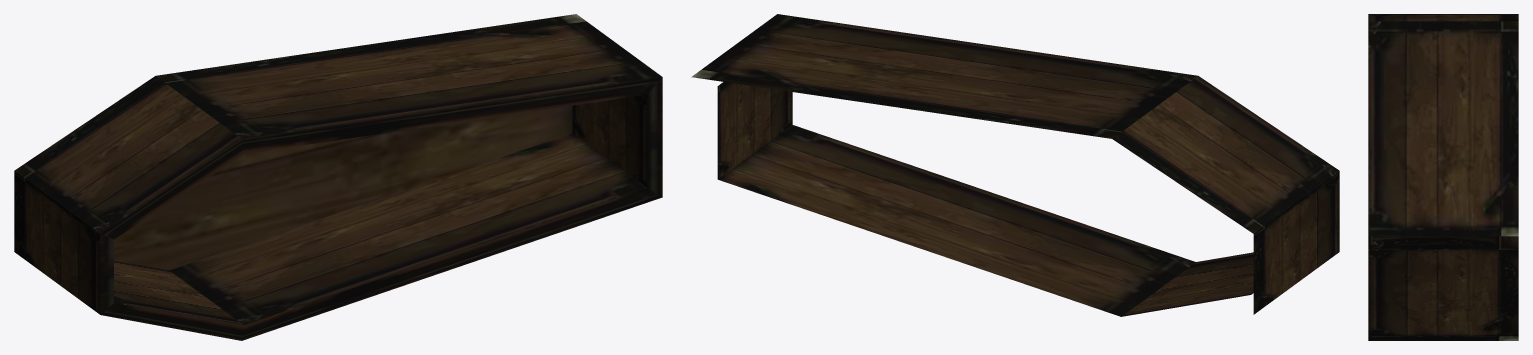
3 renders of one model, left to right at view 1: azimuth 30°, elevation 25°; view 2: azimuth 150°, elevation 25°; view 3: azimuth 270°, elevation 25°, orthographic. The views are drawn at different scales.
Visible parts, largest first — view 1: model_Object21; view 2: model_Object21; view 3: model_Object21.
Boxes of the visible parts, left/top/right/bottom form: model_Object21: left=14, top=14, right=662, bottom=340; model_Object21: left=691, top=14, right=1339, bottom=316; model_Object21: left=1368, top=14, right=1518, bottom=340.
Bounding box in the file's own units: 2.4 × 0.8234 × 0.6373.
Materials: 1 (1 with a texture image).
